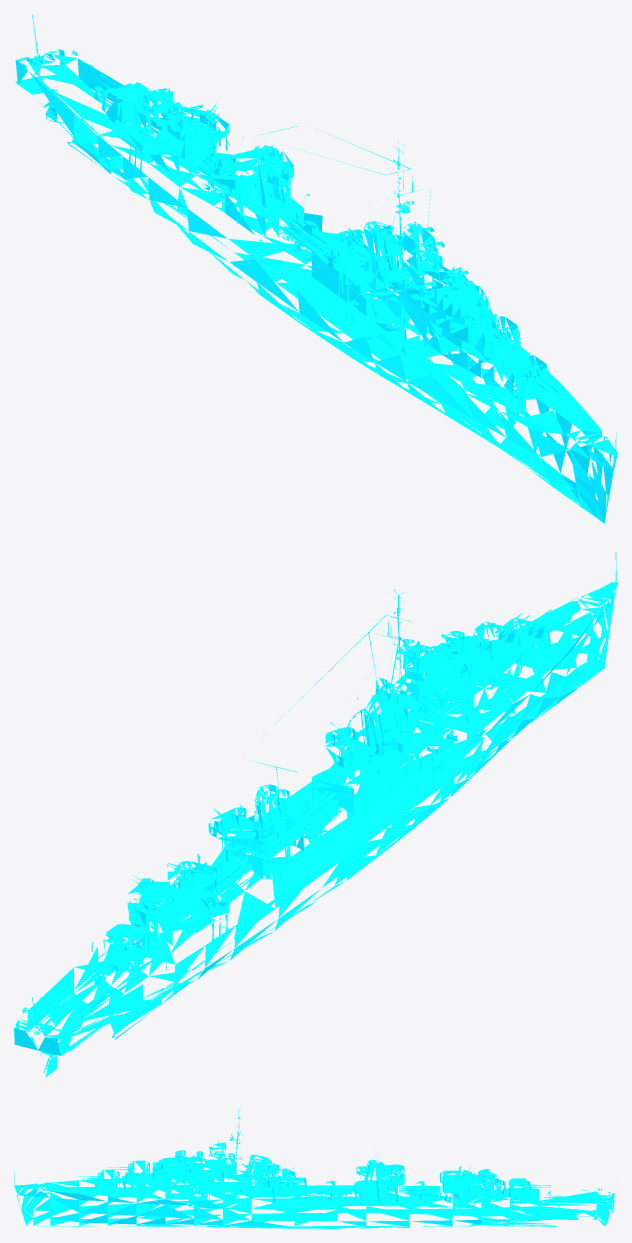
File: Pr_Kiev.glb
3 renders of one model, top to bottom at view 1: azimuth 30°, elevation 25°; view 2: azimuth 150°, elevation 25°; view 3: azimuth 270°, elevation 25°, orthographic. The views are drawn at different scales.
Size of the model in its own units: 0.8686 by 1.88 by 8.55.
